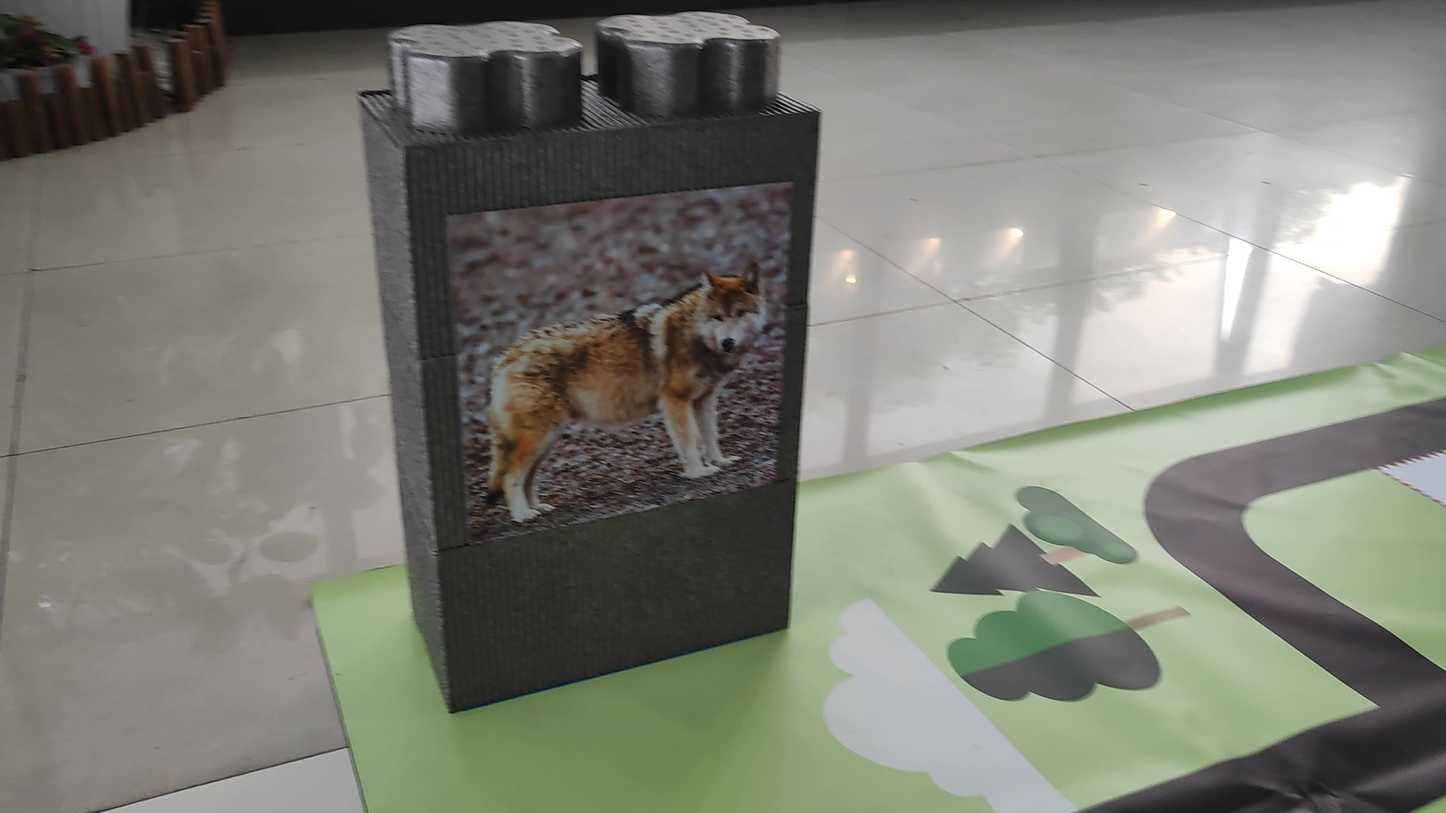wolf: (461, 217, 784, 519)
